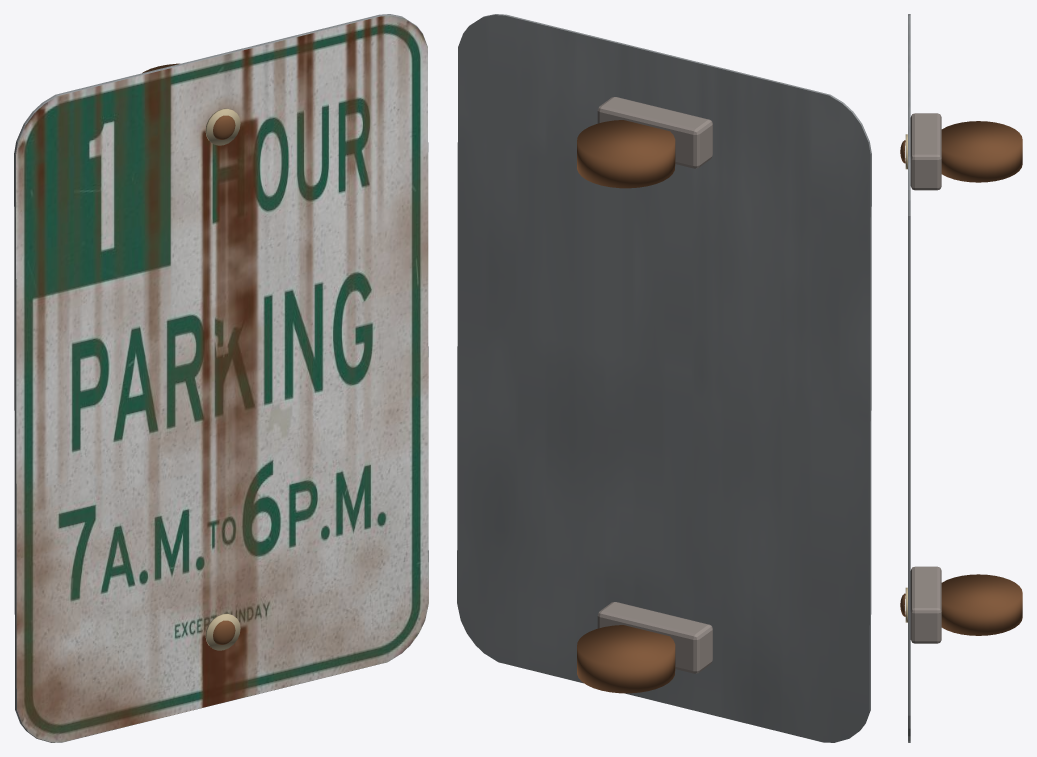
File: timeParking-v1-rusty.glb
The picture shows the model from 3 angles, left to right: view 1: azimuth 30°, elevation 25°; view 2: azimuth 150°, elevation 25°; view 3: azimuth 270°, elevation 25°; orthographic projection. The views are drawn at different scales.
Parts seen in each view (by area): view 1: timeParking-v1-rusty; view 2: timeParking-v1-rusty; view 3: timeParking-v1-rusty.
Part boxes in pixels (left/top/right/bottom): timeParking-v1-rusty: left=14, top=14, right=428, bottom=742; timeParking-v1-rusty: left=457, top=14, right=871, bottom=742; timeParking-v1-rusty: left=900, top=14, right=1022, bottom=742.
Bounding box in the file's own units: 0.3048 × 0.4573 × 0.0871.
Materials: 1 (1 with a texture image).
